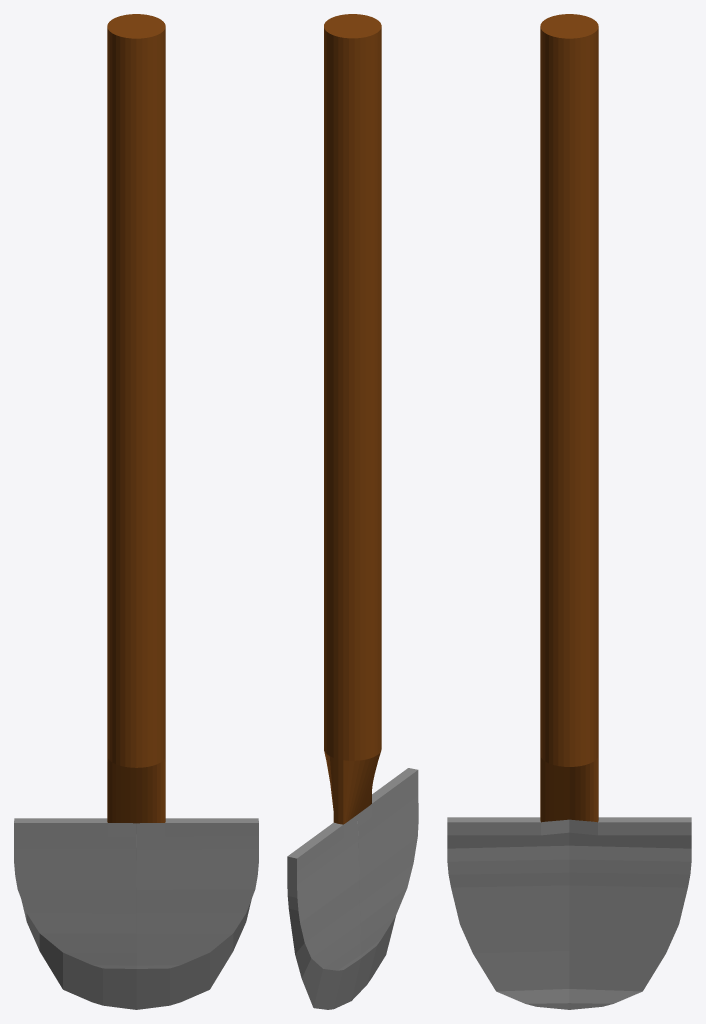
File: Shovel.fbx
3 renders of one model, left to right at view 1: azimuth 90°, elevation 25°; view 2: azimuth 150°, elevation 25°; view 3: azimuth 270°, elevation 25°, orthographic.
Parts seen in each view (by area): view 1: Cylinder.001, Cylinder; view 2: Cylinder.001, Cylinder; view 3: Cylinder.001, Cylinder.
Boxes of the visible parts, <box> form: Cylinder.001: <box>107,14,165,823</box>; Cylinder: <box>14,818,258,1009</box>; Cylinder.001: <box>324,14,381,824</box>; Cylinder: <box>287,768,418,1009</box>; Cylinder.001: <box>540,14,598,822</box>; Cylinder: <box>447,817,691,1009</box>.
Bounding box in the file's own units: 20 × 372 × 83.79.
